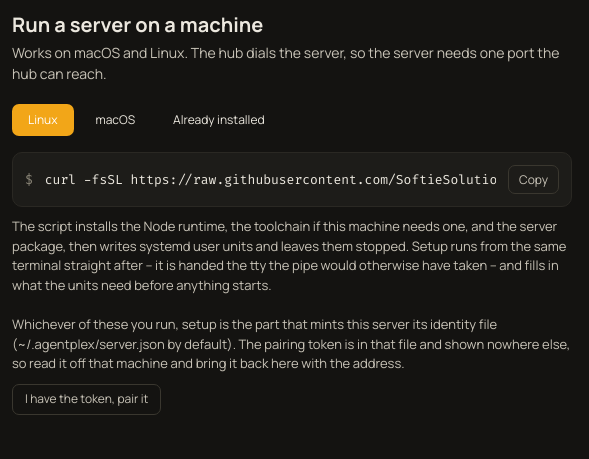
the enroll panel › drops the copy line when the tab changes, so it never labels the wrong command
Click the button "Copy".
click(534, 180)  # box [508, 165, 559, 194]
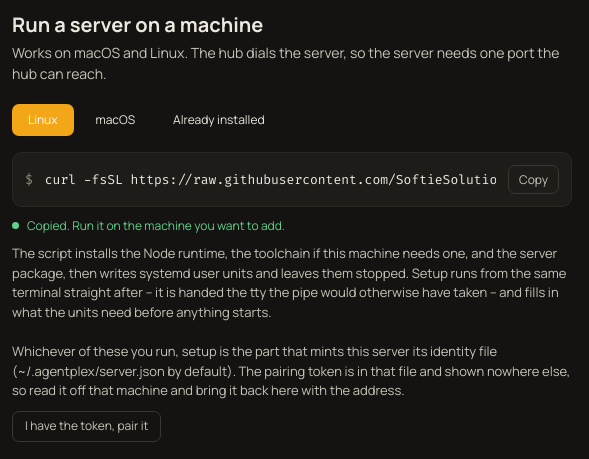
Click the tab "macOS".
click(115, 120)  # box [80, 104, 151, 136]
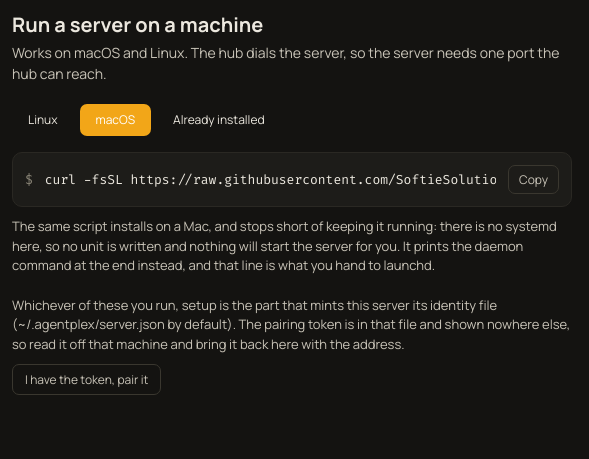
Result: the text "Copied" is gone
